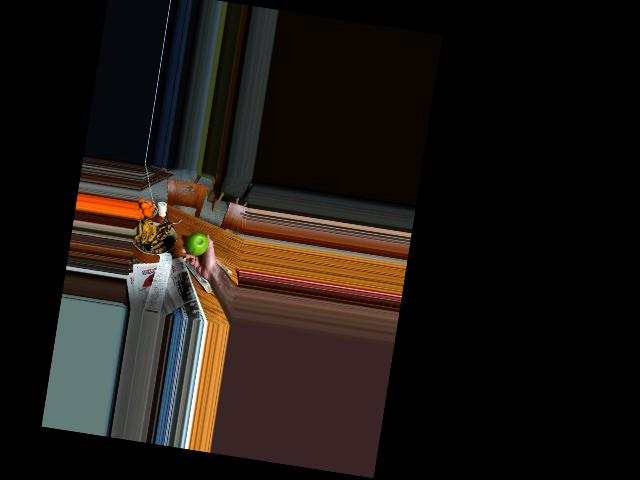apple: (182, 230, 211, 258)
